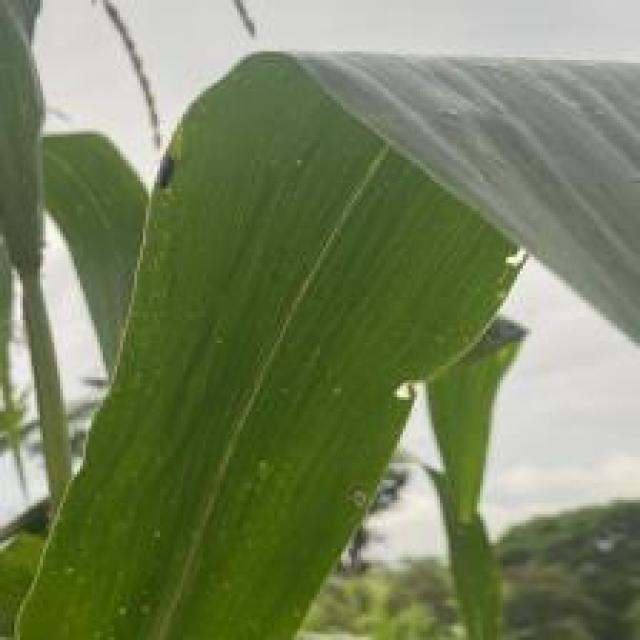Plaga: (157, 148, 208, 217)
